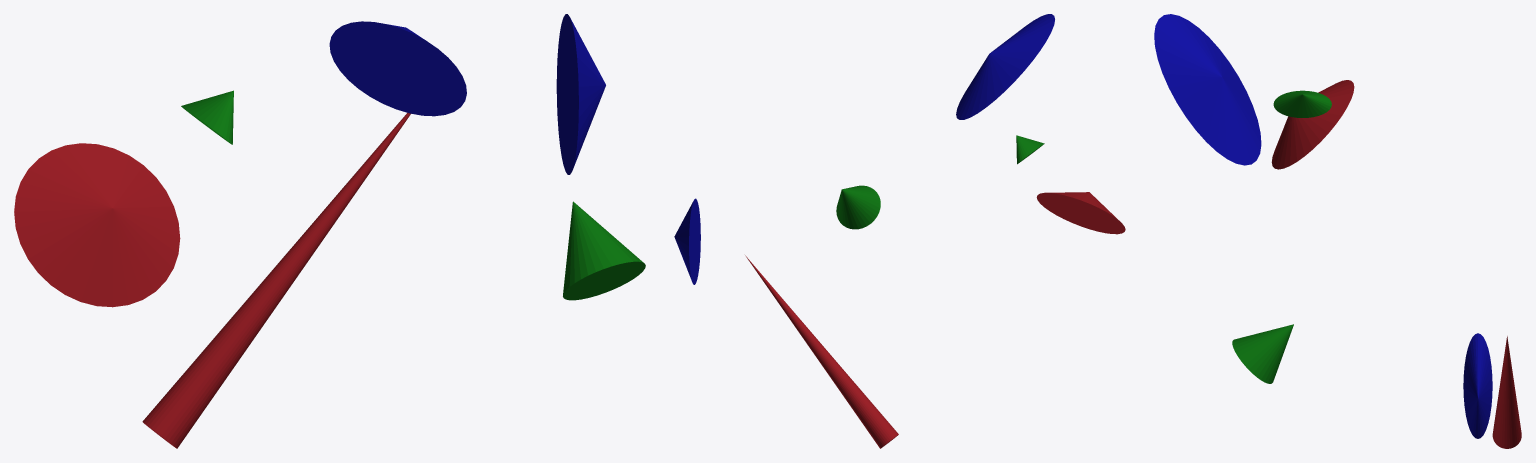
File: cones.gltf
3 renders of one model, left to right at view 1: azimuth 30°, elevation 25°; view 2: azimuth 150°, elevation 25°; view 3: azimuth 270°, elevation 25°, orthographic. The views are drawn at different scales.
Parts seen in each view (by area): view 1: Cone, Cone.003, Cone.002, Cone.005, Cone.004, Cone.001; view 2: Cone.002, Cone.003, Cone, Cone.004, Cone.005, Cone.001; view 3: Cone.002, Cone, Cone.005, Cone.004, Cone.003, Cone.001.
Part boxes in pixels (<box>): Cone: <box>14,143,180,307</box>; Cone.003: <box>142,113,410,448</box>; Cone.002: <box>329,21,466,116</box>; Cone.005: <box>556,14,605,174</box>; Cone.004: <box>563,201,645,300</box>; Cone.001: <box>181,90,233,144</box>; Cone.002: <box>956,14,1054,119</box>; Cone.003: <box>745,255,898,448</box>; Cone: <box>1036,192,1125,234</box>; Cone.004: <box>836,185,880,229</box>; Cone.005: <box>674,198,700,284</box>; Cone.001: <box>1016,135,1044,164</box>; Cone.002: <box>1154,14,1261,165</box>; Cone: <box>1271,80,1354,169</box>; Cone.005: <box>1463,333,1492,438</box>; Cone.004: <box>1232,324,1293,383</box>; Cone.003: <box>1492,336,1521,448</box>; Cone.001: <box>1273,90,1331,117</box>.
Size of the model in its own units: 18.5 by 15.66 by 12.59.
